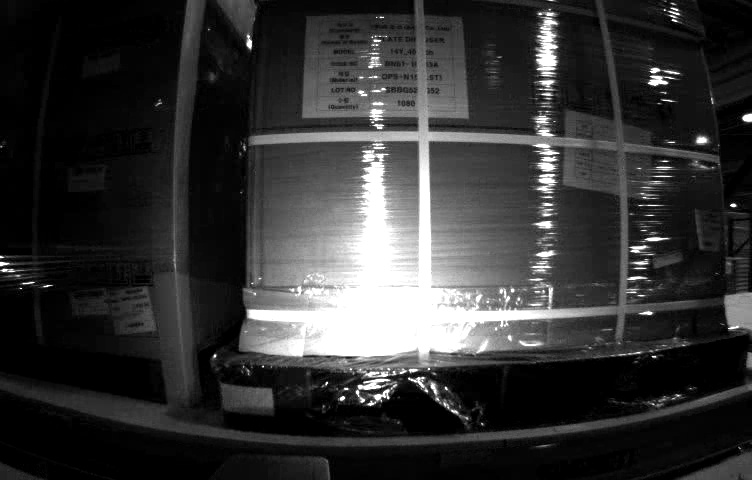True Barcode: (107, 288, 156, 334), (693, 209, 723, 253)
